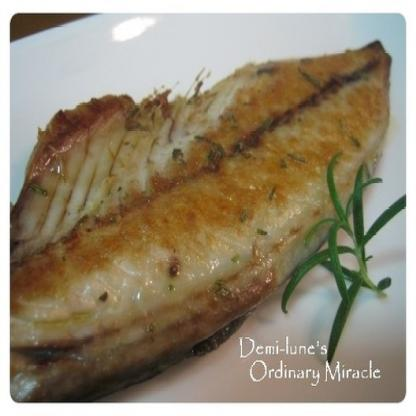Peixe: (14, 29, 411, 382)
